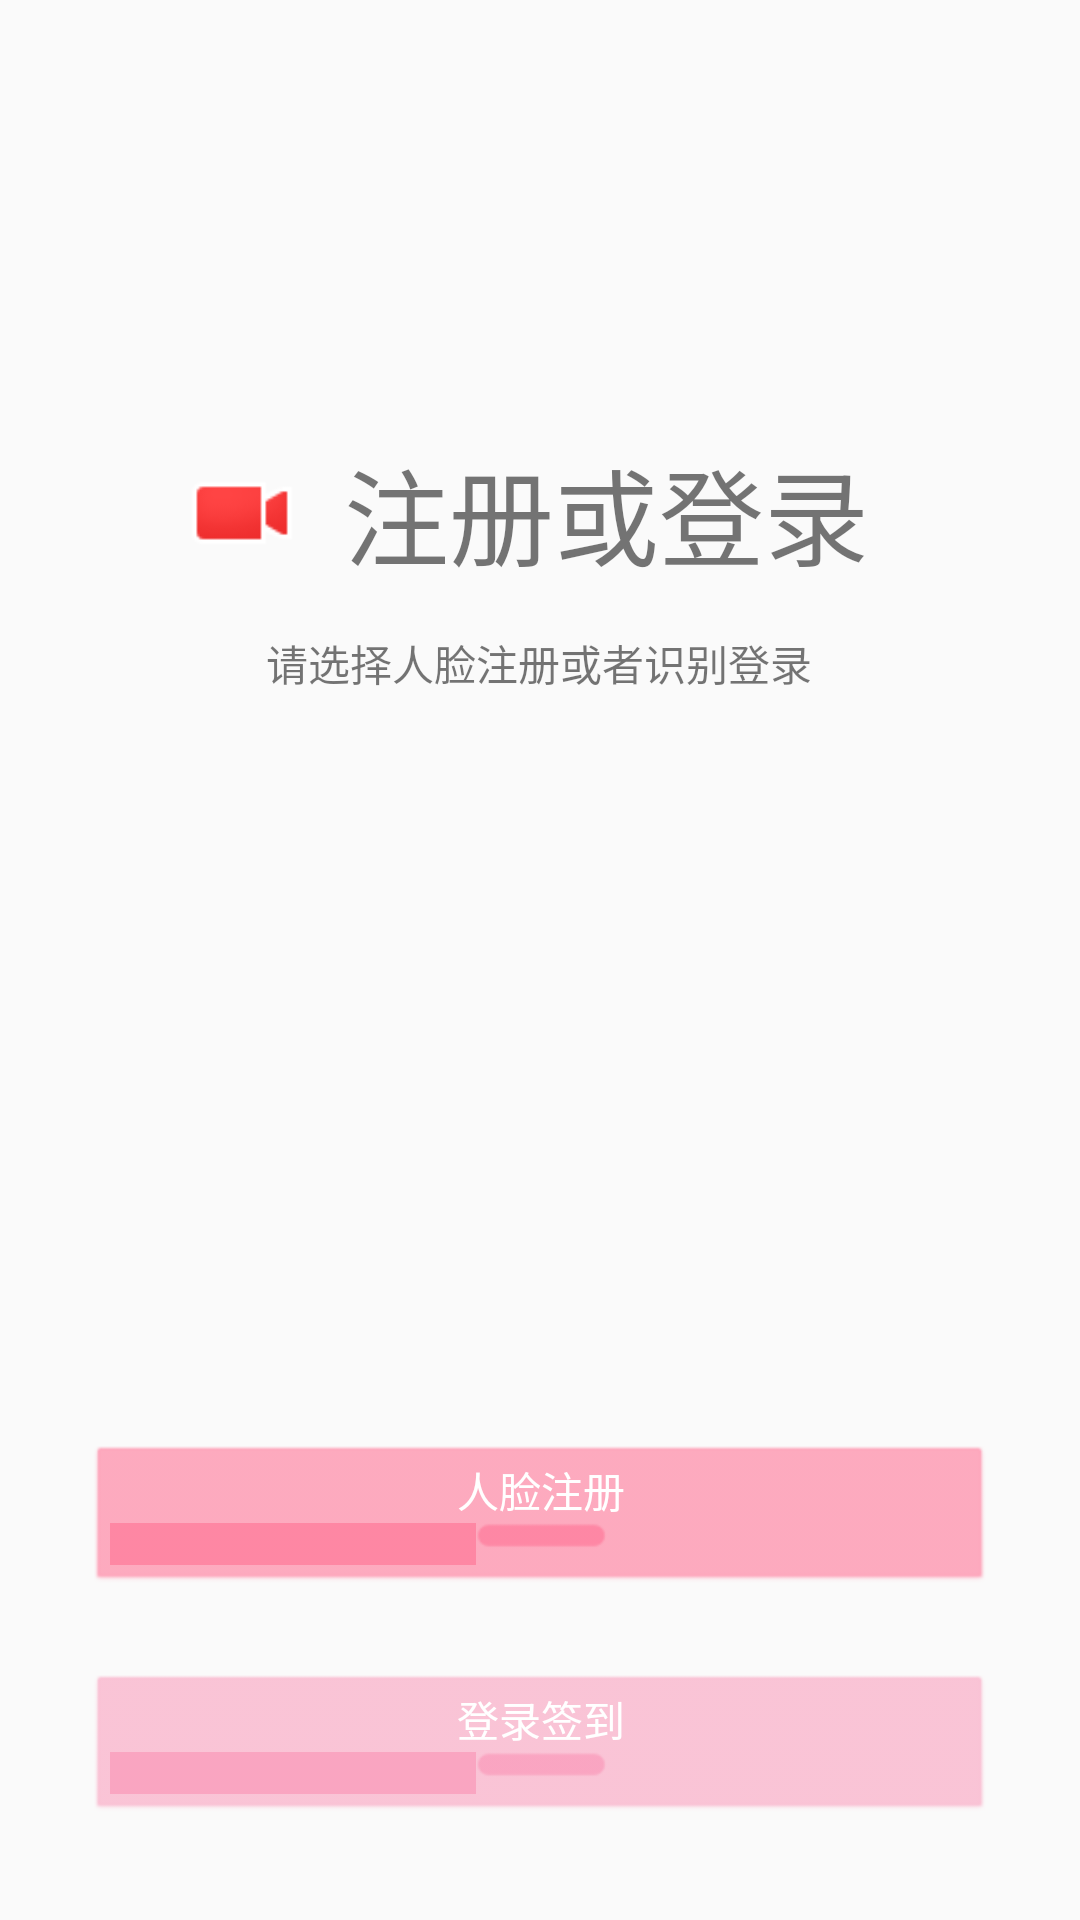

Named icons in this screenshot (1080x1920) and their bounding boxes, (x1, y1, x2, y2):
presence video busy: (196, 486, 288, 540)
